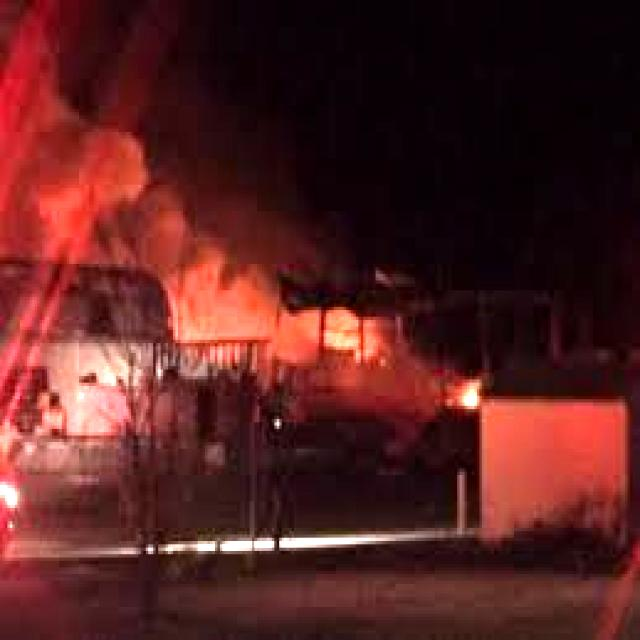Smoke: (0, 85, 355, 383)
